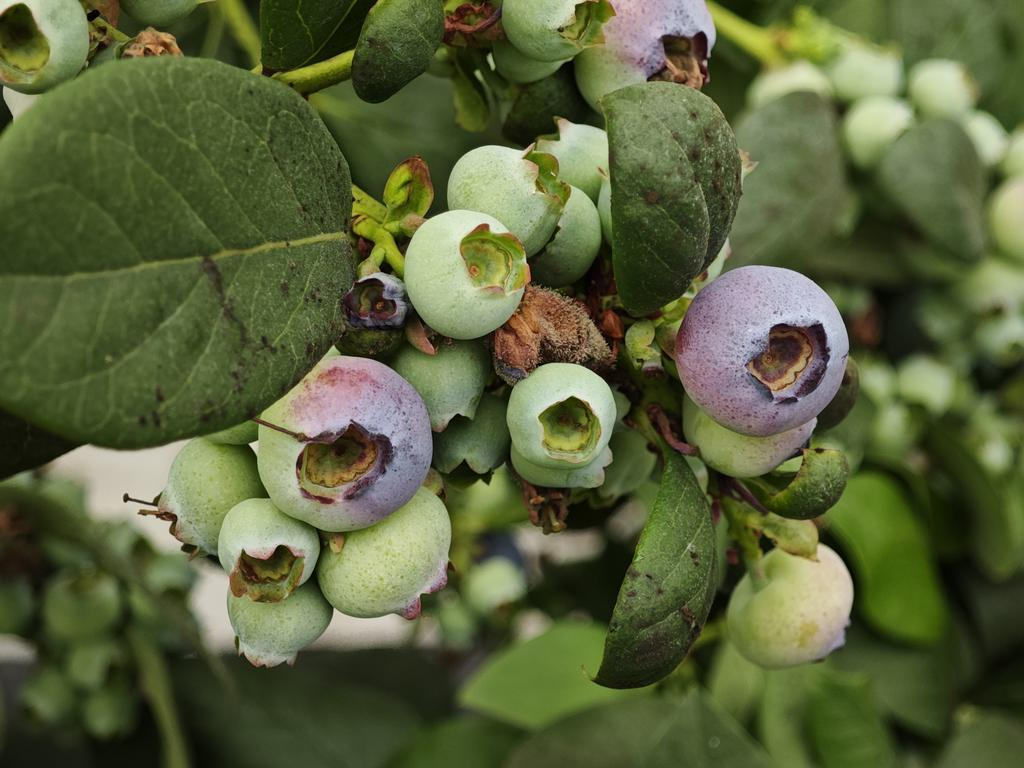Semi-RipeBlueBerry: (266, 366, 428, 534), (681, 266, 847, 426)
UnripeBlueBerry: (731, 541, 852, 666), (409, 213, 536, 329), (510, 361, 618, 478)
